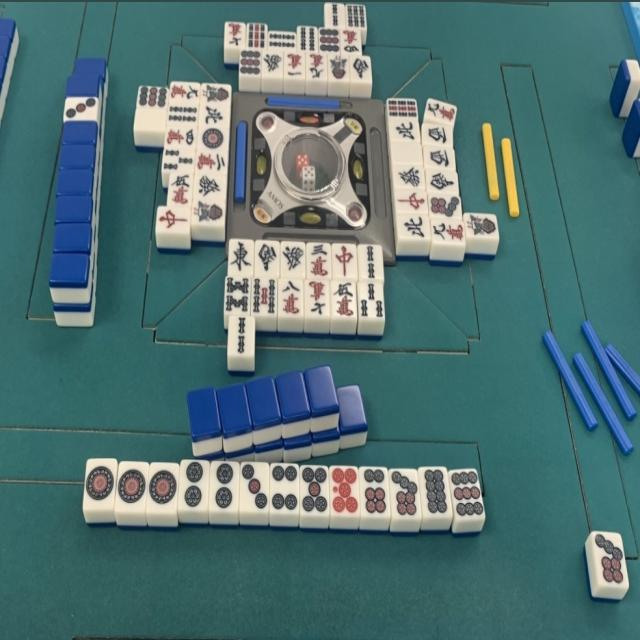circles_1: (82, 458, 118, 511), (114, 460, 149, 513), (145, 460, 179, 513)
circles_2: (177, 459, 210, 514), (209, 459, 239, 513)
circles_3: (239, 460, 269, 514)
circles_4: (268, 462, 300, 517)
circles_5: (329, 464, 362, 518), (300, 463, 331, 519)
circles_6: (360, 464, 390, 522)
circles_7: (387, 468, 424, 520)
circles_8: (417, 464, 453, 518)
circles_9: (447, 466, 486, 520)
